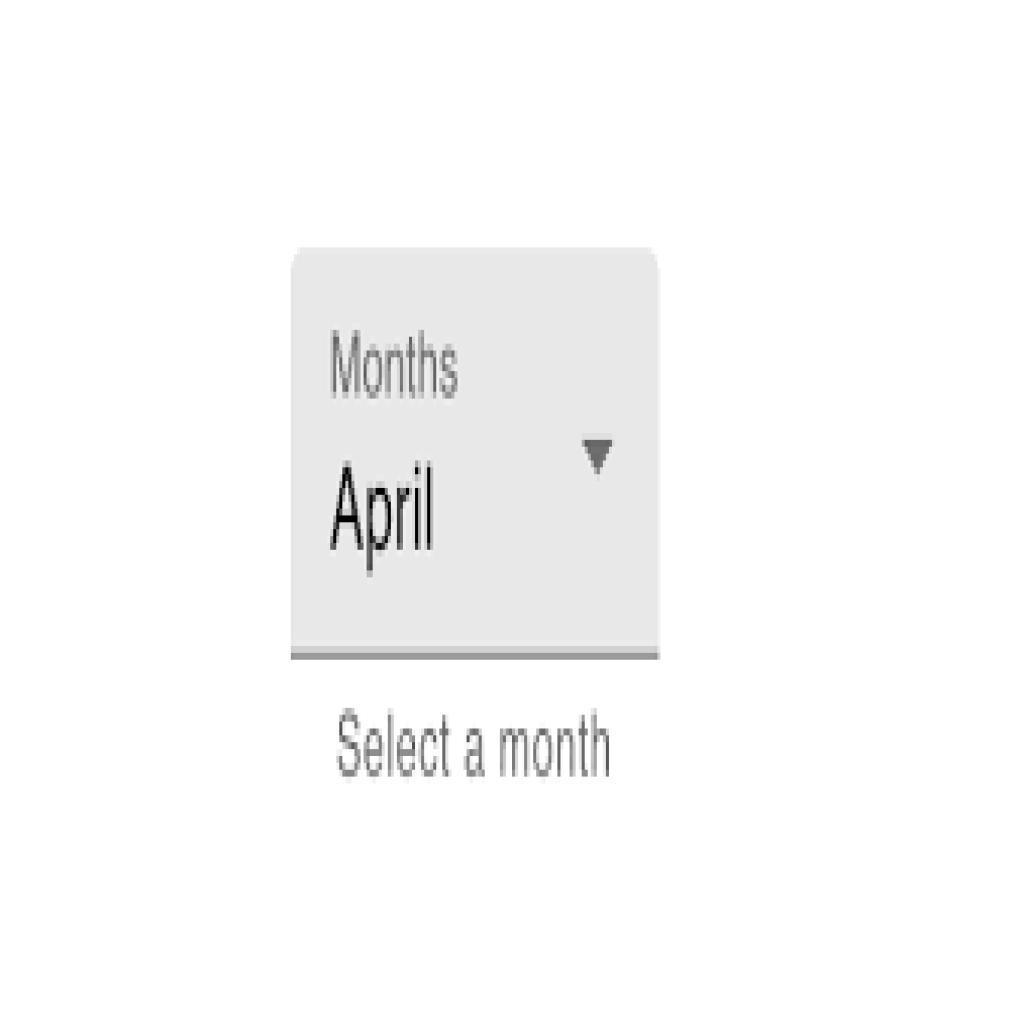dropdown: (295, 247, 661, 660)
